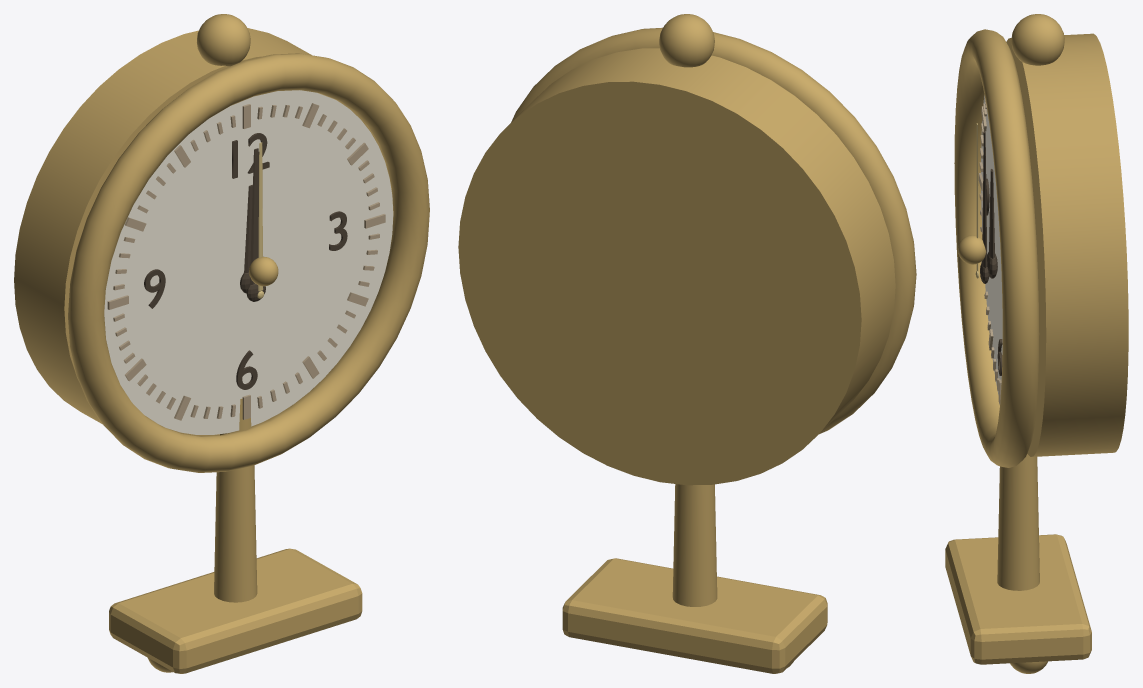
File: clock.glb
3 renders of one model, left to right at view 1: azimuth 30°, elevation 25°; view 2: azimuth 150°, elevation 25°; view 3: azimuth 270°, elevation 25°, orthographic. The views are drawn at different scales.
Parts seen in each view (by area): view 1: clock_face, decor_clock_bezel, decor_clock_housing, decor_clock_base, decor_clock_stand, clock_ticks, decor_clock_crown, clock_hand_minute, decor_clock_hub, clock_hand_hour; view 2: decor_clock_housing, decor_clock_base, decor_clock_bezel, decor_clock_stand, decor_clock_crown; view 3: decor_clock_housing, decor_clock_bezel, decor_clock_base, decor_clock_stand, clock_face, decor_clock_crown, clock_ticks, decor_clock_hub, clock_hand_minute, clock_hand_hour, decor_clock_foot_1, clock_hand_second.
Part boxes in pixels (x1=…): clock_face: x1=104, y1=90, x2=393, y2=434; decor_clock_bezel: x1=68, y1=53, x2=429, y2=472; decor_clock_housing: x1=14, y1=28, x2=393, y2=436; decor_clock_base: x1=109, y1=548, x2=362, y2=673; decor_clock_stand: x1=214, y1=398, x2=257, y2=602; clock_ticks: x1=107, y1=103, x2=385, y2=420; decor_clock_crown: x1=197, y1=14, x2=250, y2=66; clock_hand_minute: x1=246, y1=148, x2=265, y2=301; decor_clock_hub: x1=249, y1=256, x2=278, y2=286; clock_hand_hour: x1=240, y1=184, x2=252, y2=293; decor_clock_housing: x1=458, y1=48, x2=895, y2=485; decor_clock_base: x1=562, y1=558, x2=827, y2=673; decor_clock_bezel: x1=511, y1=27, x2=916, y2=434; decor_clock_stand: x1=672, y1=484, x2=717, y2=606; decor_clock_crown: x1=659, y1=14, x2=714, y2=67; decor_clock_housing: x1=1006, y1=33, x2=1128, y2=456; decor_clock_bezel: x1=954, y1=29, x2=1039, y2=467; decor_clock_base: x1=945, y1=534, x2=1091, y2=664; decor_clock_stand: x1=997, y1=454, x2=1039, y2=590; clock_face: x1=981, y1=95, x2=1002, y2=394; decor_clock_crown: x1=1011, y1=14, x2=1064, y2=65; clock_ticks: x1=978, y1=97, x2=1001, y2=404; decor_clock_hub: x1=958, y1=235, x2=986, y2=264; clock_hand_minute: x1=980, y1=131, x2=989, y2=283; clock_hand_hour: x1=987, y1=169, x2=997, y2=278; decor_clock_foot_1: x1=1010, y1=661, x2=1047, y2=673; clock_hand_second: x1=975, y1=123, x2=978, y2=278.
Bounding box in the file's own units: 0.18 × 0.28 × 0.0751.
